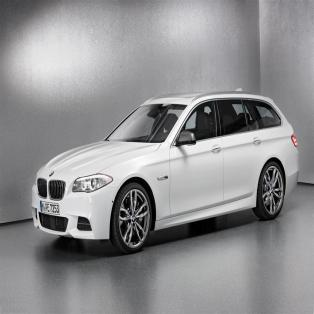Auto: (31, 88, 298, 256)
